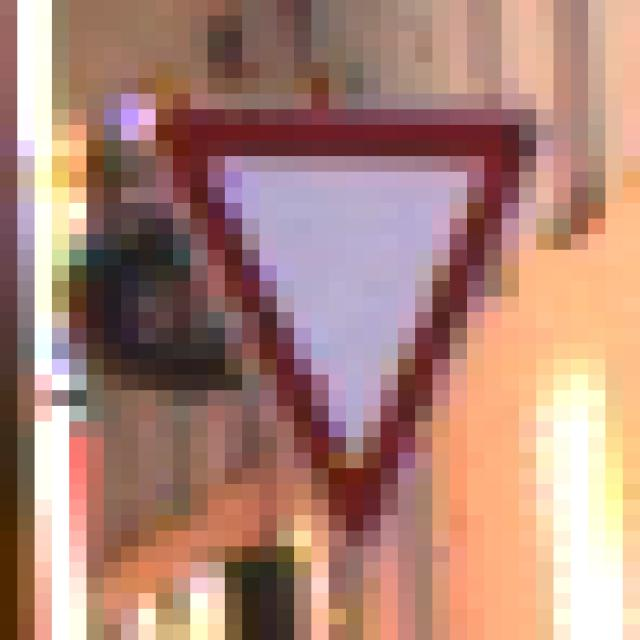Give Way: (105, 79, 554, 563)
